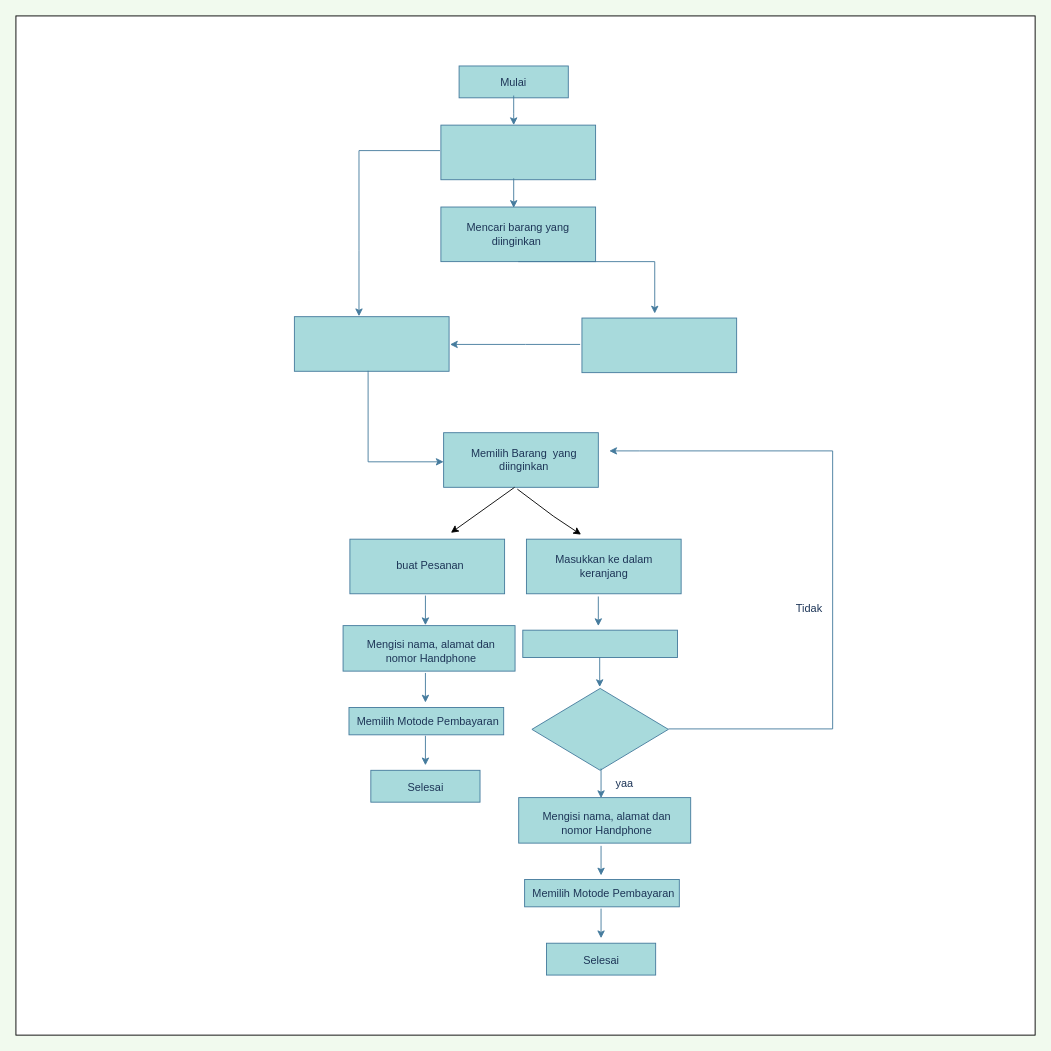
This 1051x1051 diagram has some shape labels left out. The shapes that lost their labels are listed below. From the top down, each one's centre as x and y in pixels, then its label:
the point at 518,152: Pelanggan Mengakses Green Strore
the point at 371,343: Login pada web Green Store
the point at 659,345: SigIn pada web Green Store
the point at 599,643: Pilih CheckOut
the point at 599,729: yakin dengan barang yang dipilih
